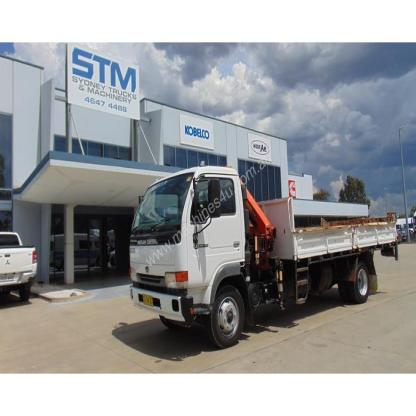dump_truck: (118, 151, 406, 351)
